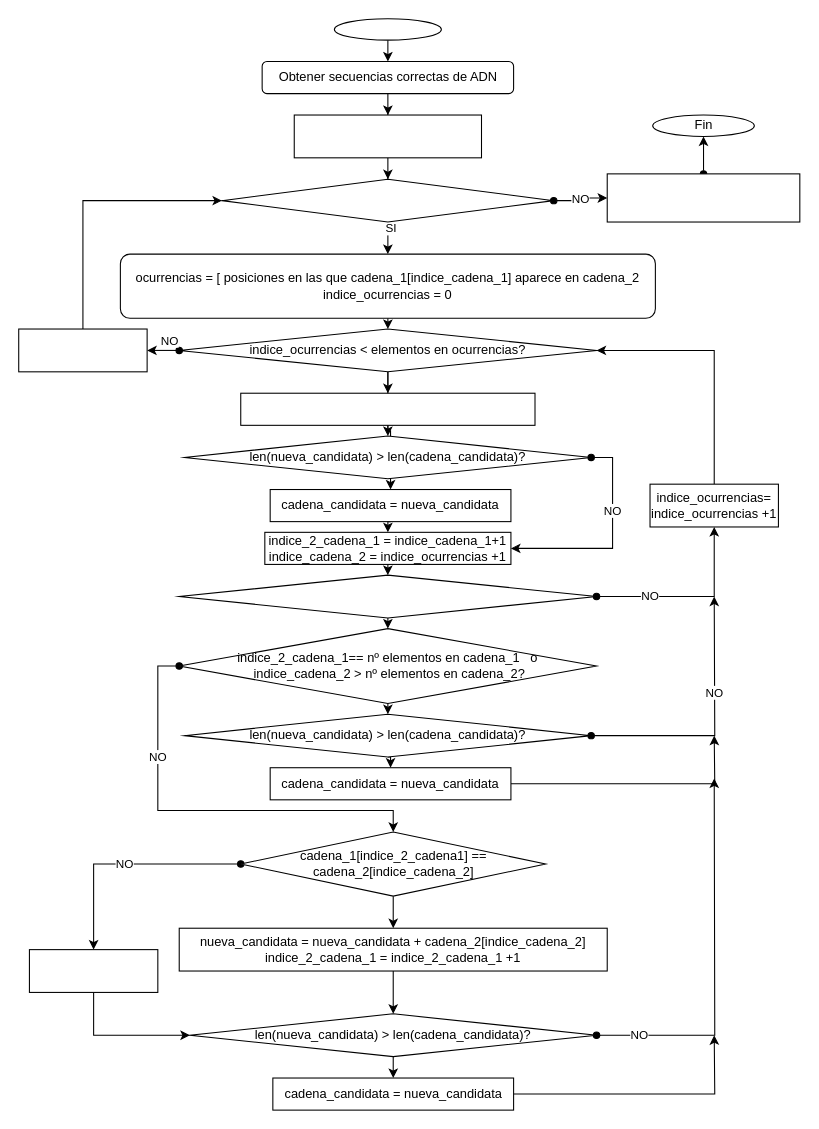
Some shapes in this 819 by 1129 pixel diagram are drawn without their labels. The shapes that lost their labels are listed below. From the top down, each one's centre as x and y in pixels, then its label:
point 387,29: Inicio
point 387,136: cadena_candidata = " " indice_cadena_1= 0
point 387,200: indice_cadena_1 < nº caracteres cadena_1?
point 703,197: Resultado = cadena_candidata
point 82,350: indice_cadena_1= indice_cadena_1 +1
point 387,408: nueva_candidata = cadena_1[indice_ocurrencias]
point 387,596: indice_cadena_2 < elementos en cadena_2?
point 93,970: indice_2_cadena_1= indice_cadena_1
